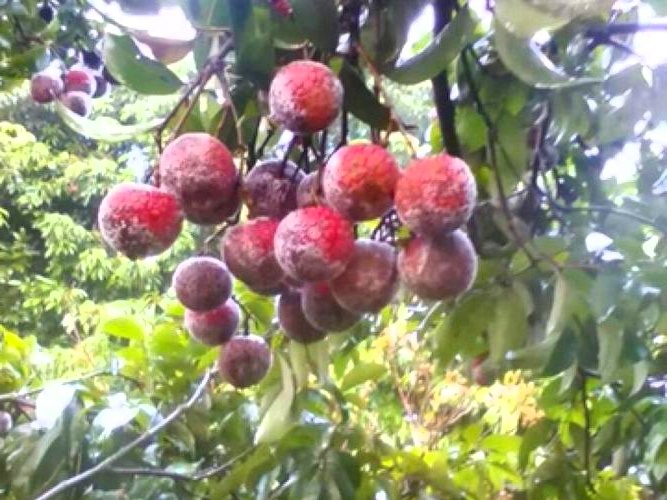Frost_Blight: (149, 18, 449, 382)
